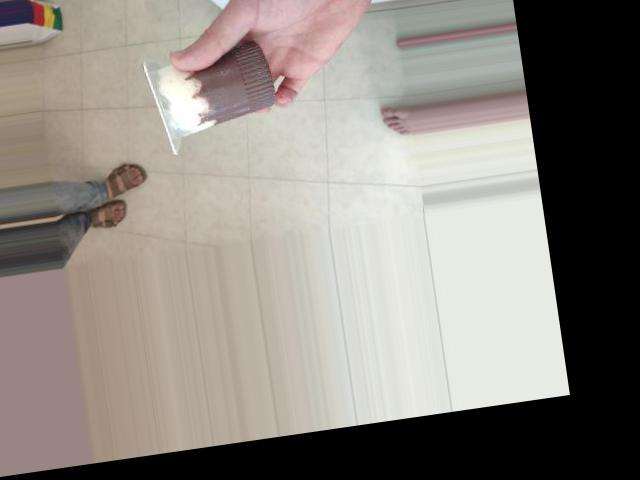milky: (146, 59, 269, 145)
